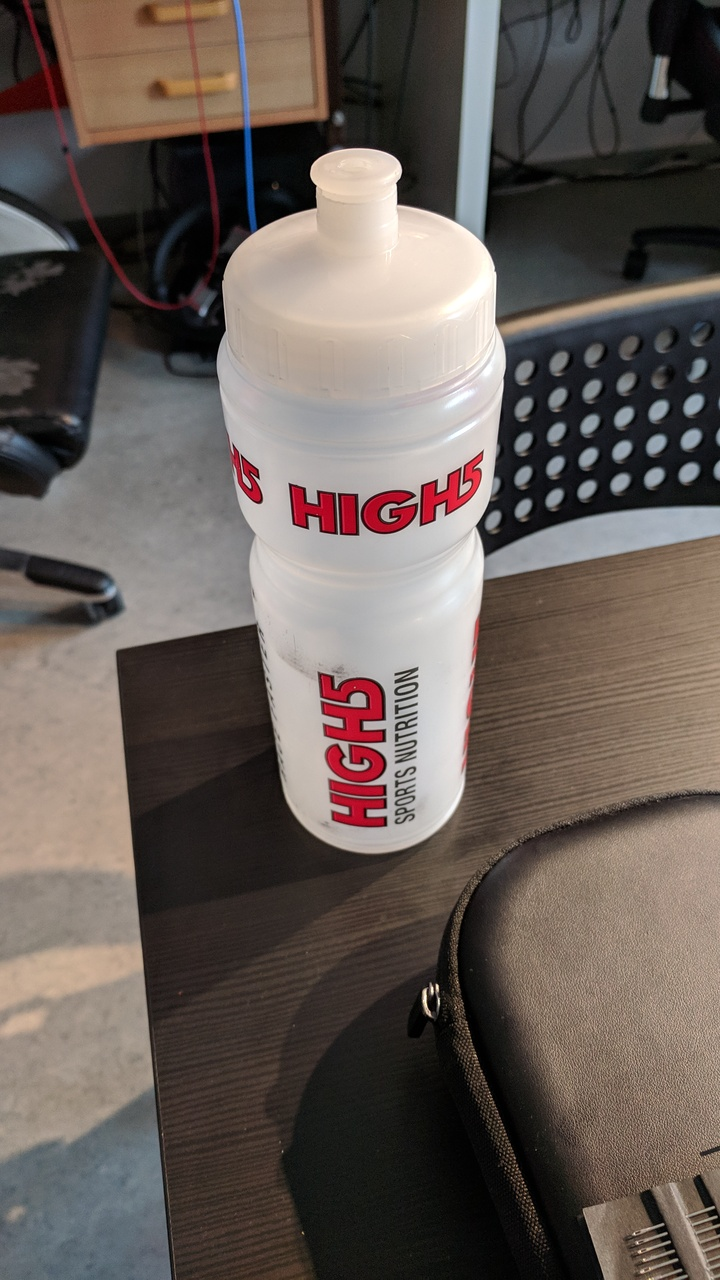high five bottle: (207, 145, 516, 873)
